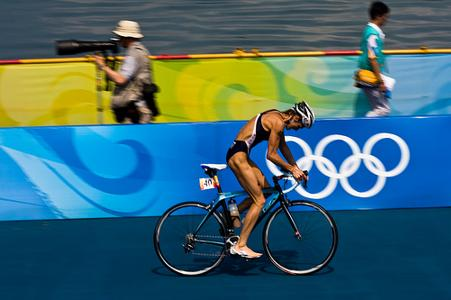person: (227, 99, 315, 259)
